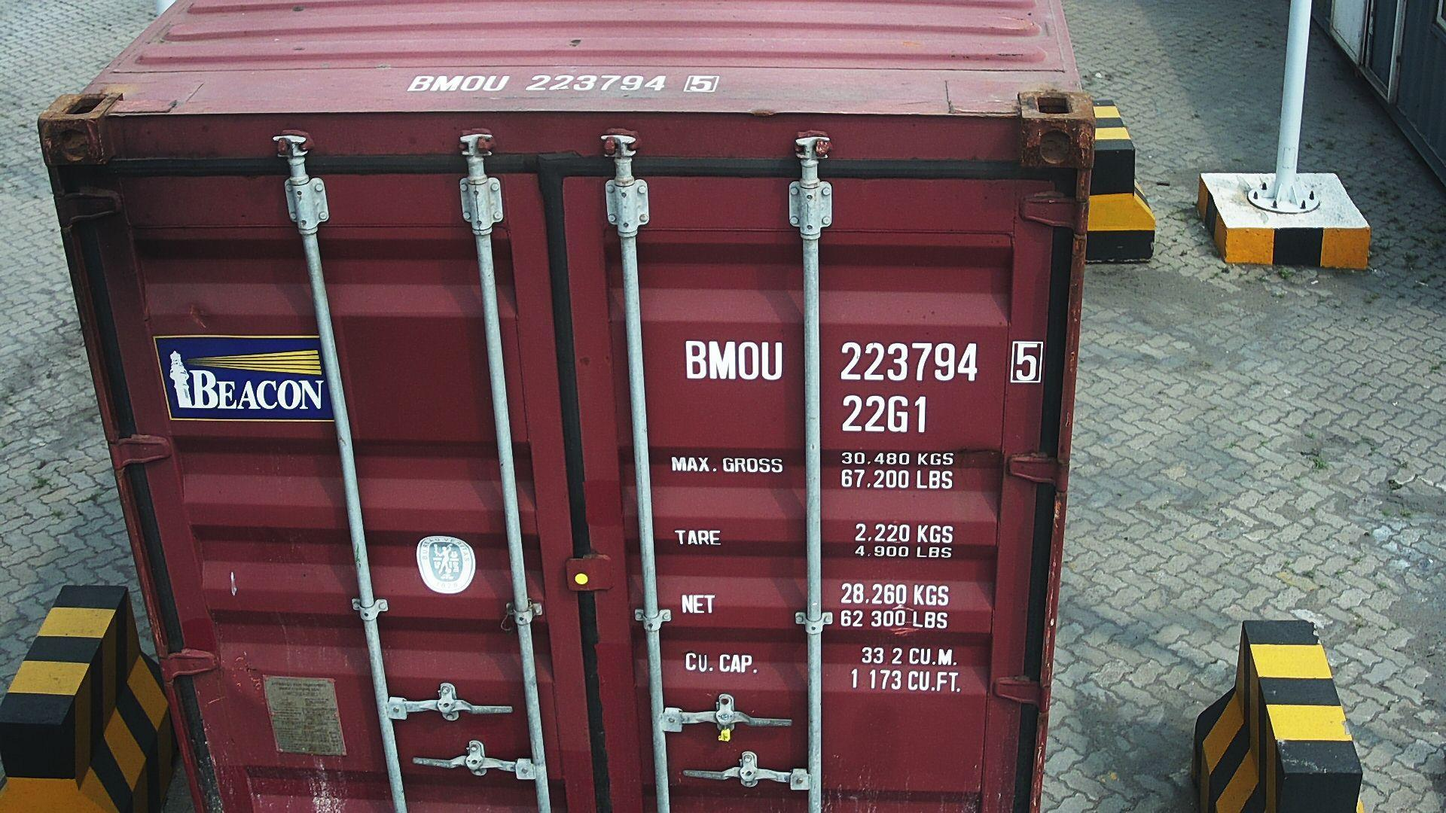container-numbers: (681, 335, 1046, 388), (396, 72, 724, 98), (840, 392, 933, 437)
